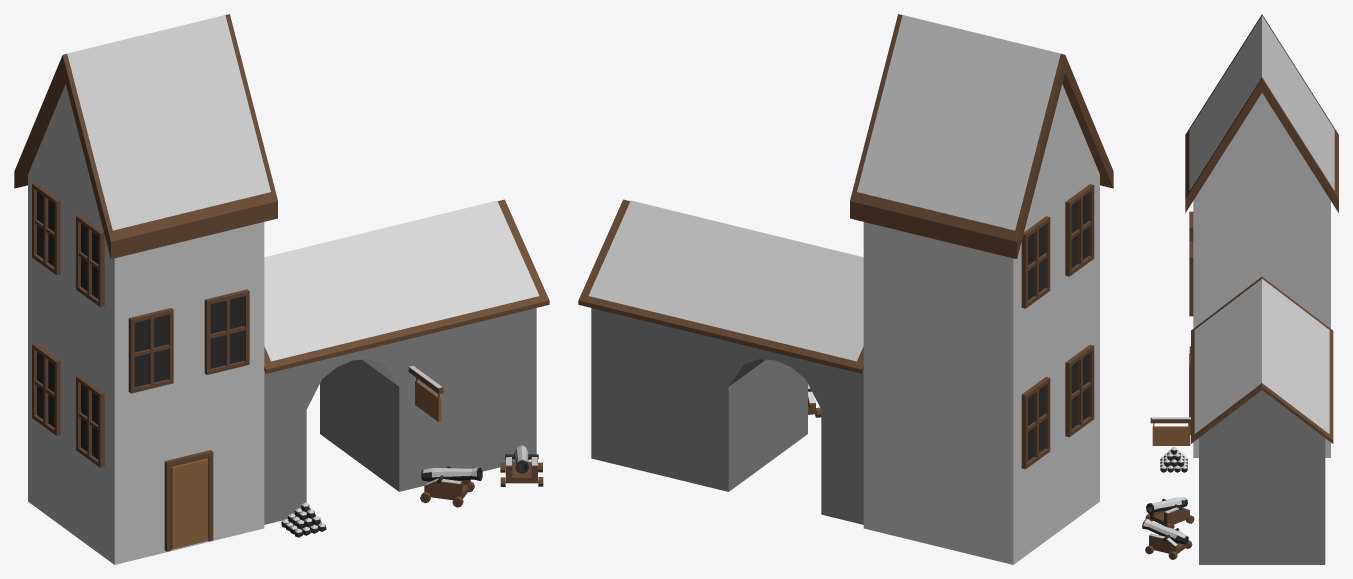
The model's file is GunShop_snow_mat.fbx.
The picture shows the model from 3 angles, left to right: view 1: azimuth 30°, elevation 25°; view 2: azimuth 150°, elevation 25°; view 3: azimuth 270°, elevation 25°; orthographic projection. The views are drawn at different scales.
Parts seen in each view (by area): view 1: GunShop_snow_mat; view 2: GunShop_snow_mat; view 3: GunShop_snow_mat.
Boxes of the visible parts, x1,y1,x2,y2 form: GunShop_snow_mat: [14, 14, 549, 564]; GunShop_snow_mat: [578, 14, 1113, 564]; GunShop_snow_mat: [1142, 14, 1338, 564].
Size of the model in its own units: 541 by 562 by 262.
